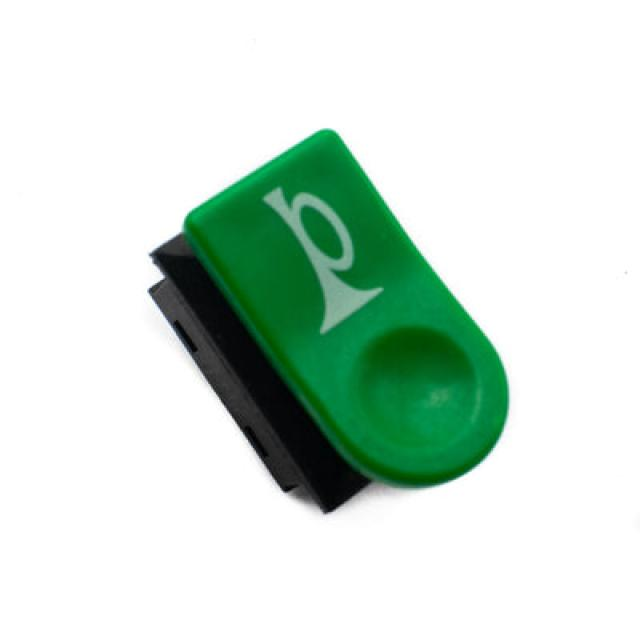switch: (154, 118, 517, 510)
